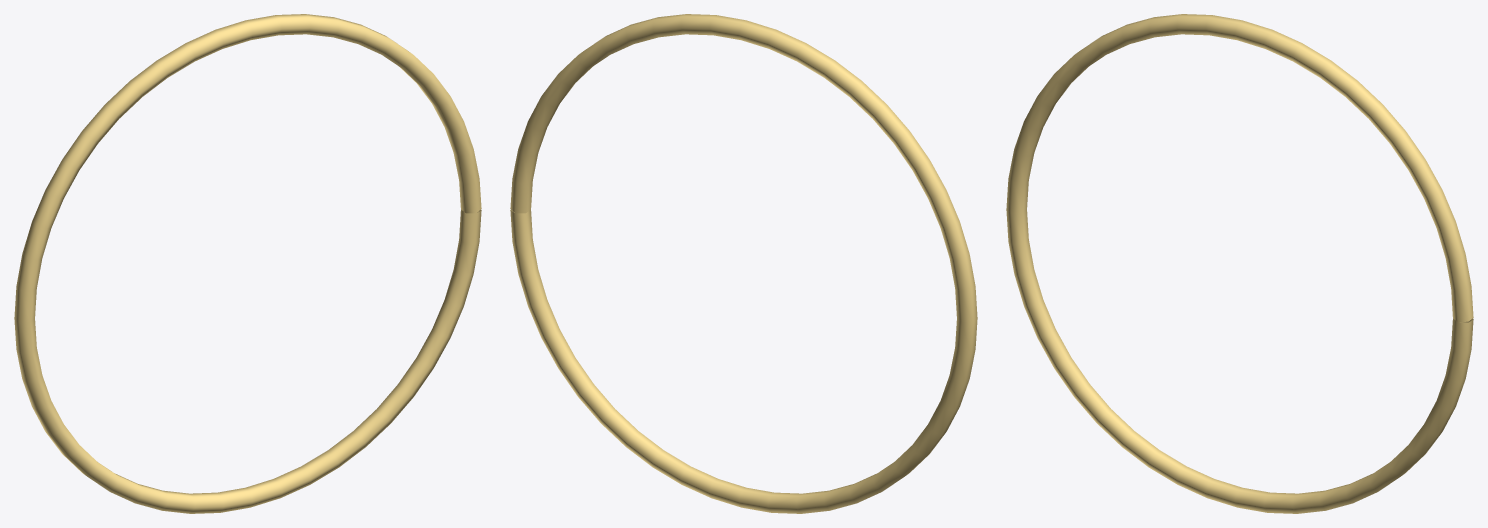
Rendered from WayArch.obj.
The picture shows the model from 3 angles, left to right: view 1: azimuth 30°, elevation 25°; view 2: azimuth 150°, elevation 25°; view 3: azimuth 330°, elevation 25°; orthographic projection.
Visible parts, largest first — view 1: WayArch; view 2: WayArch; view 3: WayArch.
Boxes of the visible parts, bbox=[...] form: WayArch: bbox=[14, 14, 481, 513]; WayArch: bbox=[510, 14, 977, 513]; WayArch: bbox=[1006, 14, 1473, 513].
Bounding box in the file's own units: 2.07 × 2.07 × 0.08.
1 material, 1 textured.
